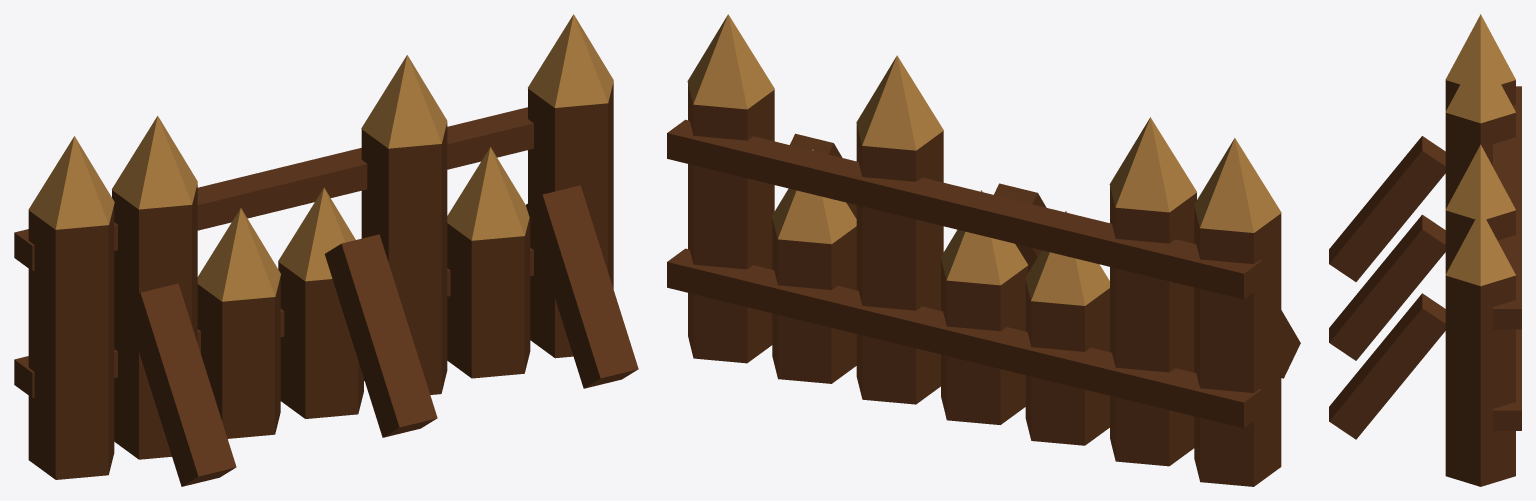
Rendered from palisade_damaged.fbx.
3 renders of one model, left to right at view 1: azimuth 30°, elevation 25°; view 2: azimuth 150°, elevation 25°; view 3: azimuth 270°, elevation 25°, orthographic. The views are drawn at different scales.
Parts seen in each view (by area): view 1: palisade_damaged; view 2: palisade_damaged; view 3: palisade_damaged.
Part boxes in pixels (<box>): palisade_damaged: <box>14,14,638,486</box>; palisade_damaged: <box>667,14,1300,486</box>; palisade_damaged: <box>1329,14,1521,486</box>.
Size of the model in its own units: 1.66 by 0.9 by 0.6001.
